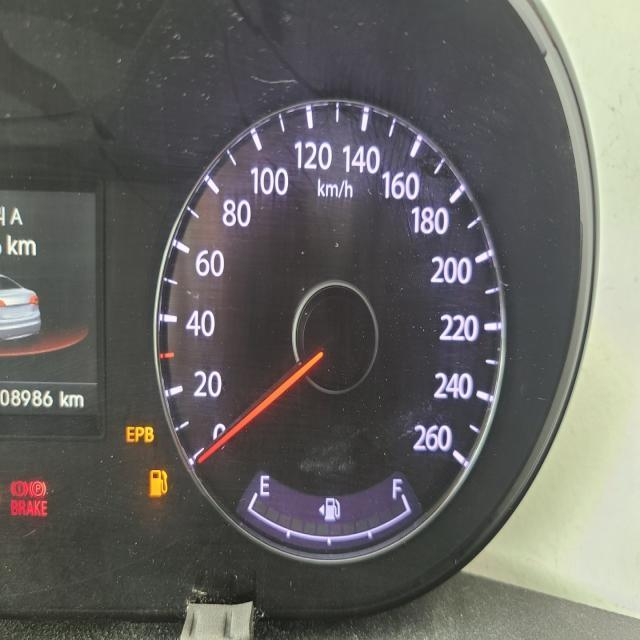Low fuel level: (148, 468, 168, 498)
